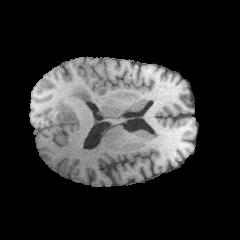glioma: (54, 84, 110, 124)
